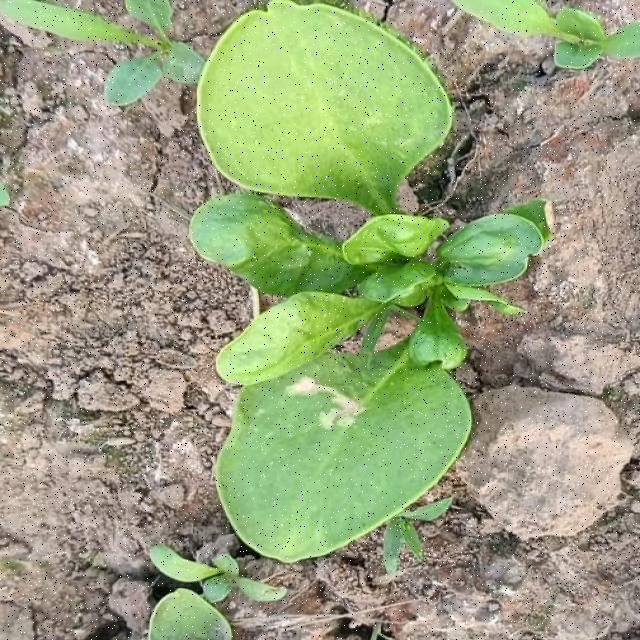plant: (190, 0, 552, 562)
